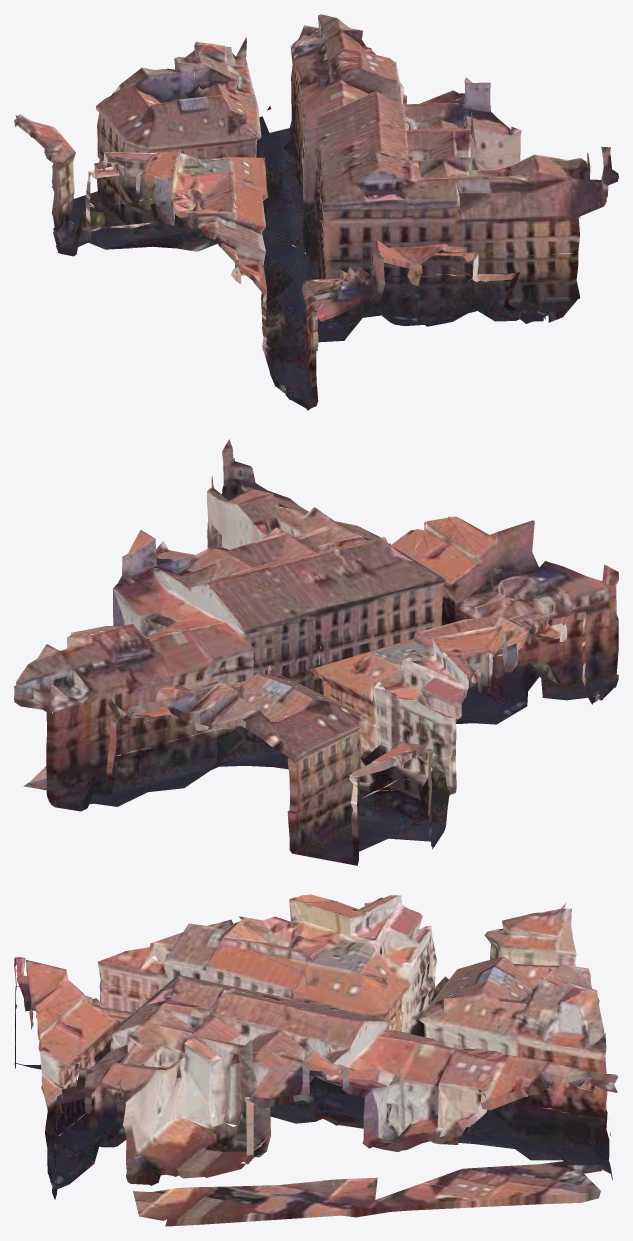
3 renders of one model, top to bottom at view 1: azimuth 30°, elevation 25°; view 2: azimuth 150°, elevation 25°; view 3: azimuth 270°, elevation 25°, orthographic. The views are drawn at different scales.
Visible parts, largest first — view 1: Mesh_0; view 2: Mesh_0; view 3: Mesh_0.
Boxes of the visible parts, bbox=[...] form: Mesh_0: bbox=[14, 14, 618, 410]; Mesh_0: bbox=[14, 439, 618, 865]; Mesh_0: bbox=[14, 894, 617, 1226].
Size of the model in its own units: 66.57 by 27.79 by 82.72.
2 materials, 2 textured.
